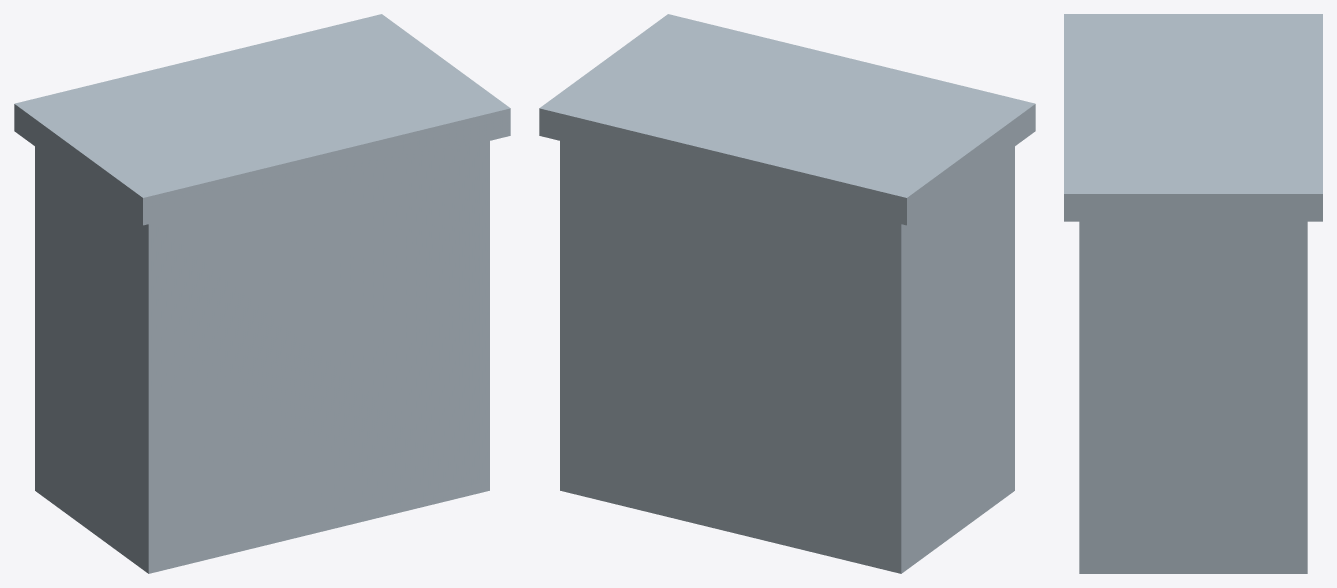
File: shadow-crate.glb
3 views of the same model, side by side, from view 1: azimuth 30°, elevation 25°; view 2: azimuth 150°, elevation 25°; view 3: azimuth 270°, elevation 25° (orthographic).
Size of the model in its own units: 56 by 56 by 34.
